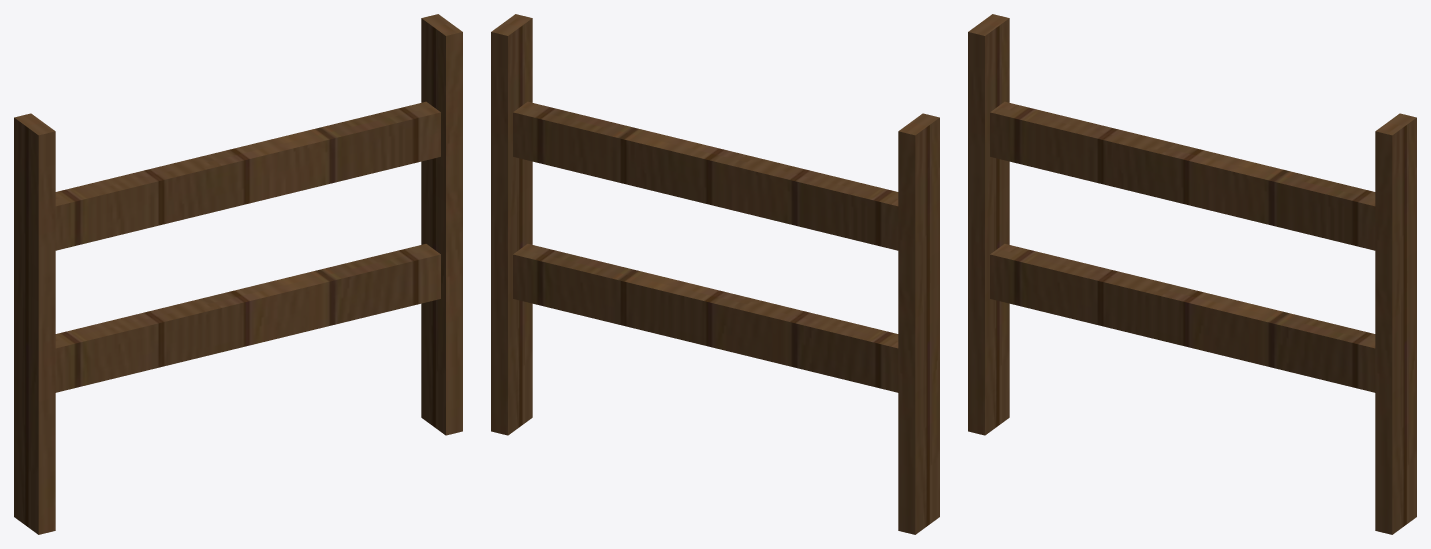
Rendered from fence.segment.glb.
3 renders of one model, left to right at view 1: azimuth 30°, elevation 25°; view 2: azimuth 150°, elevation 25°; view 3: azimuth 330°, elevation 25°, orthographic.
Visible parts, largest first — view 1: prop.fence.segment; view 2: prop.fence.segment; view 3: prop.fence.segment.
Boxes of the visible parts, left/top/right/bottom form: prop.fence.segment: left=14, top=14, right=462, bottom=534; prop.fence.segment: left=491, top=14, right=939, bottom=534; prop.fence.segment: left=968, top=14, right=1416, bottom=534.
Size of the model in its own units: 1 by 0.9 by 0.1.
1 material, 1 textured.
